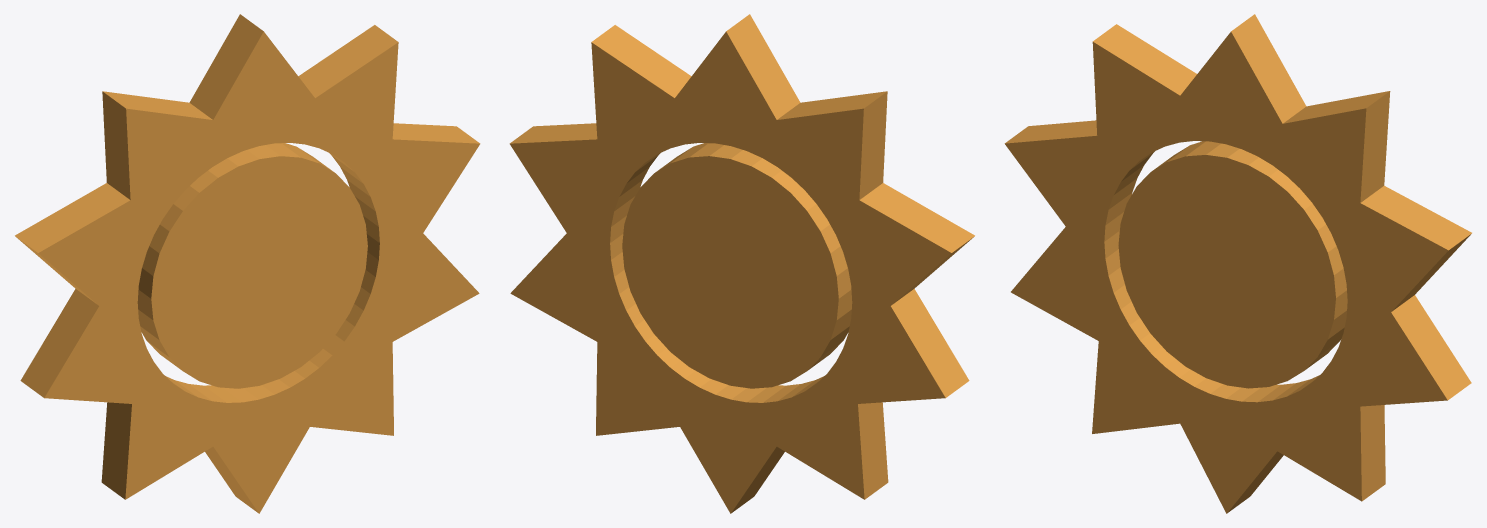
The model's file is symbol5.fbx.
3 renders of one model, left to right at view 1: azimuth 30°, elevation 25°; view 2: azimuth 150°, elevation 25°; view 3: azimuth 330°, elevation 25°, orthographic.
Visible parts, largest first — view 1: Cylinder.001; view 2: Cylinder.001; view 3: Cylinder.001.
Boxes of the visible parts, <box> form: Cylinder.001: <box>15,14,480,513</box>; Cylinder.001: <box>509,14,974,513</box>; Cylinder.001: <box>1004,14,1471,513</box>.
Size of the model in its own units: 15.89 by 16.53 by 1.48.
